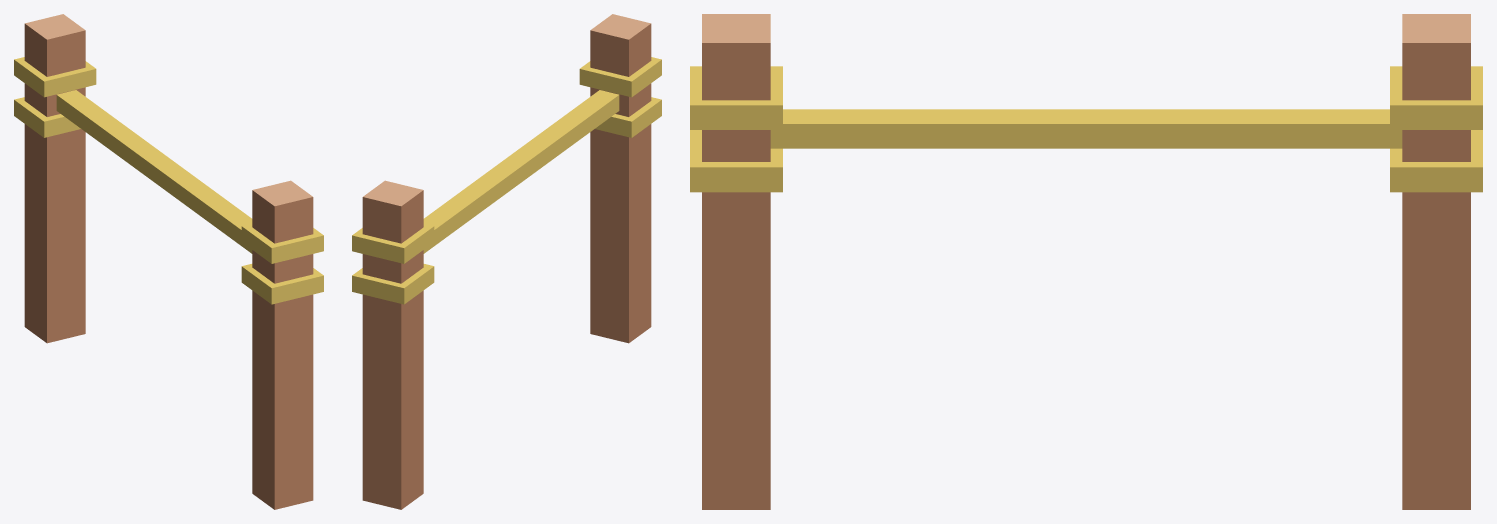
The model's file is Rope_Fence.fbx.
The picture shows the model from 3 angles, left to right: view 1: azimuth 30°, elevation 25°; view 2: azimuth 150°, elevation 25°; view 3: azimuth 270°, elevation 25°; orthographic projection. The views are drawn at different scales.
Parts seen in each view (by area): view 1: Rope_Fence; view 2: Rope_Fence; view 3: Rope_Fence.
Part boxes in pixels (box(x1,y1,x2,y2)): Rope_Fence: box(14, 14, 323, 509); Rope_Fence: box(352, 14, 661, 509); Rope_Fence: box(690, 14, 1482, 509).
Size of the model in its own units: 13.72 by 117 by 76.2.
